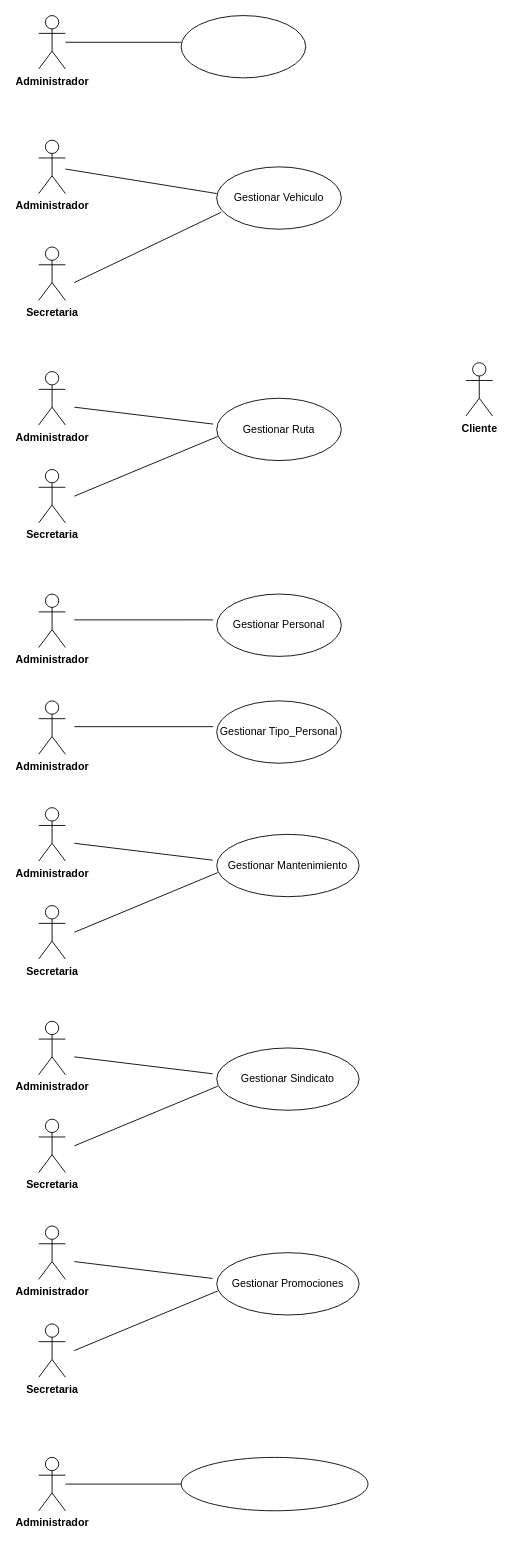
Some shapes in this 512 by 1545 pixel diagram are drawn without their labels. Each missing label, with the centre of its shape:
"Gestionar Reportes y Estadisticas" belongs at (x=274, y=1483).
"Gestionar Usuario" belongs at (x=243, y=46).
